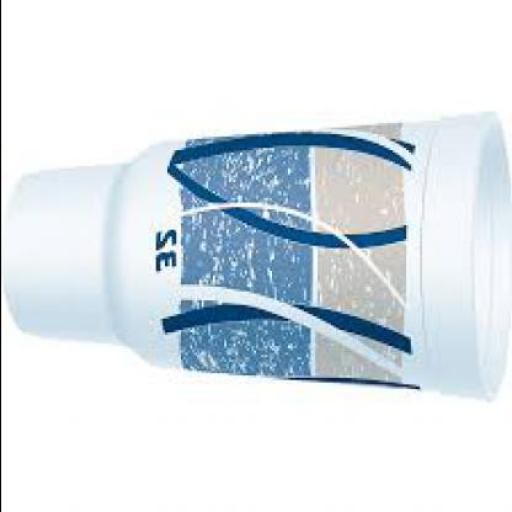paper: (2, 113, 511, 401)
